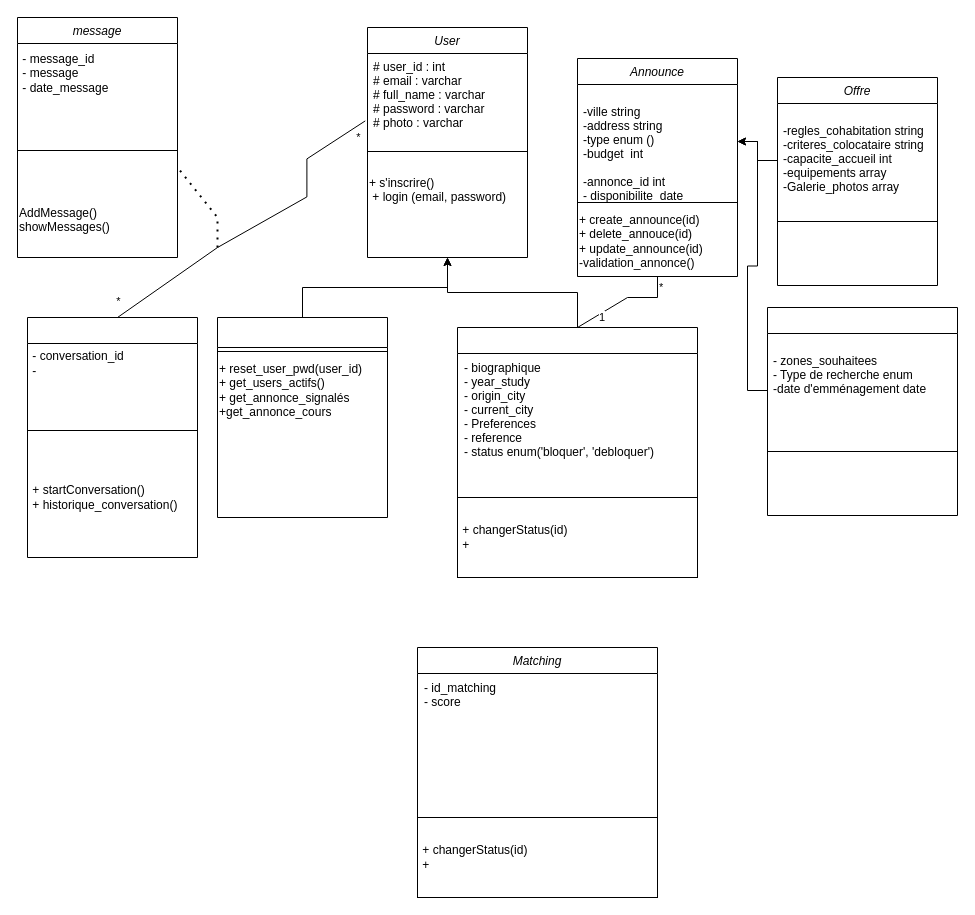
The diagram is 975 pixels wide and 915 high, and some of its shapes have lost their labels. Here are the shapes that lost their labels. From the top down, the box of each, then its label:
(216, 316, 388, 518): Admin
(766, 306, 958, 516): Demand
(26, 316, 198, 558): Conversastion
(456, 326, 698, 578): Student
